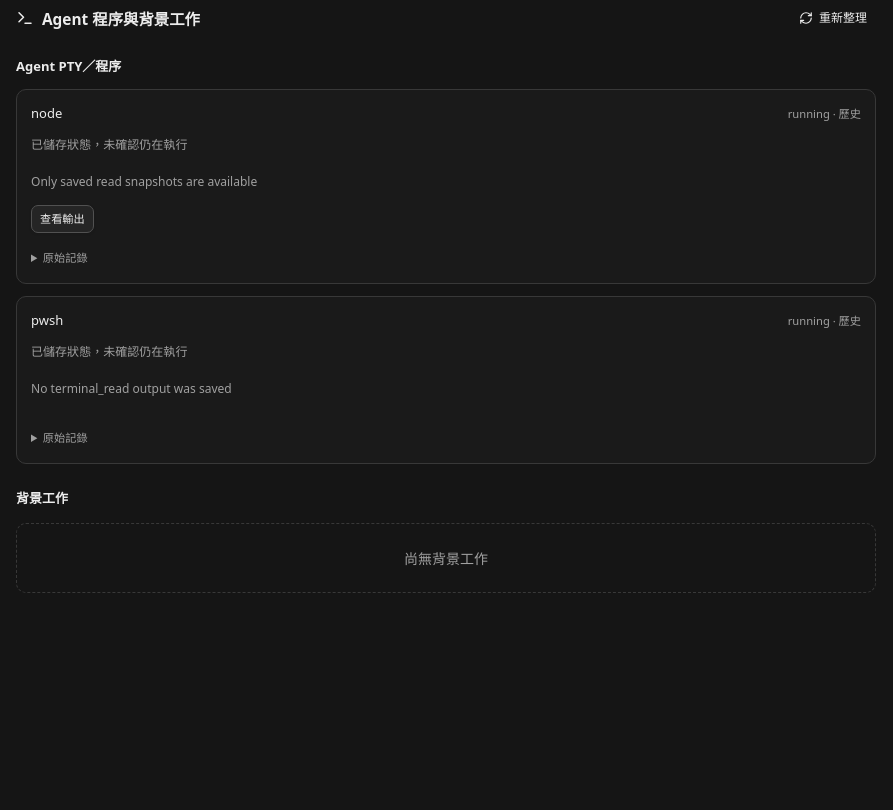
Test: shows historical PTY evidence and saved output without offering live controls
Click the button "查看輸出": x=62, y=219 [31,205,94,233]
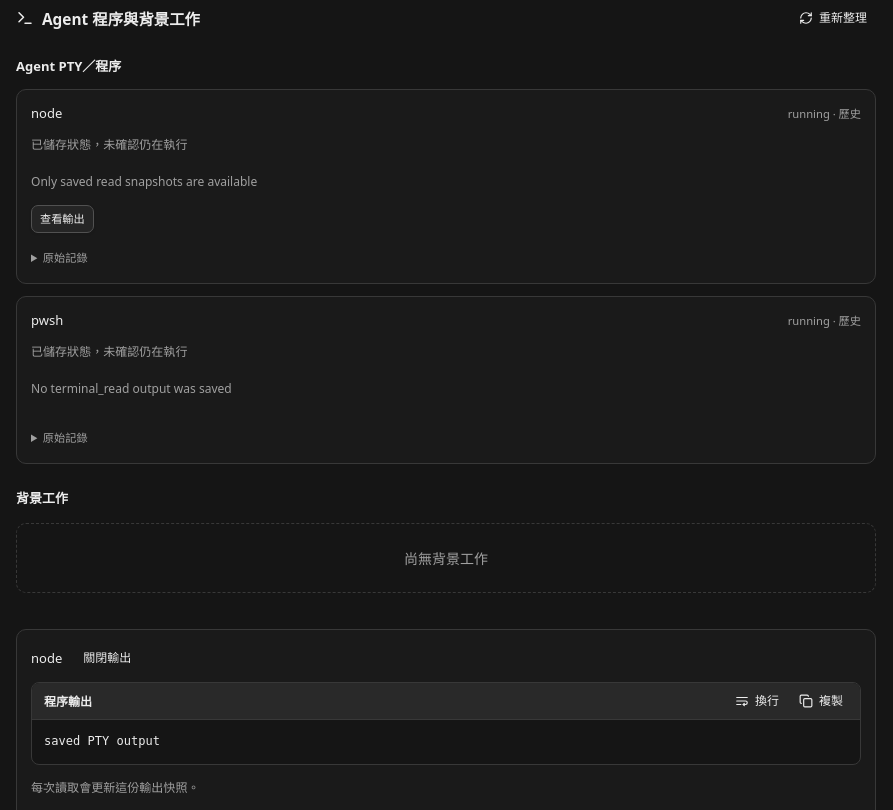
Expected: the text "No terminal_read output was saved" is shown, [31,380,232,397]
Result: the text "saved PTY output" is shown at [44,734,160,748]
